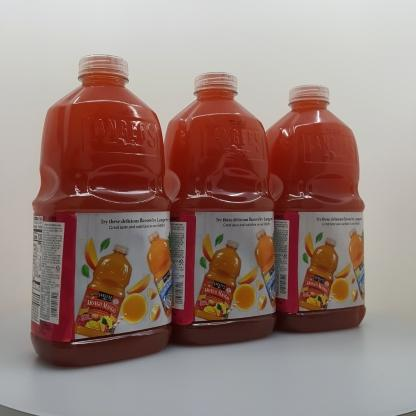-----------1-89L: (30, 54, 172, 368), (149, 72, 277, 345), (250, 85, 366, 332)
